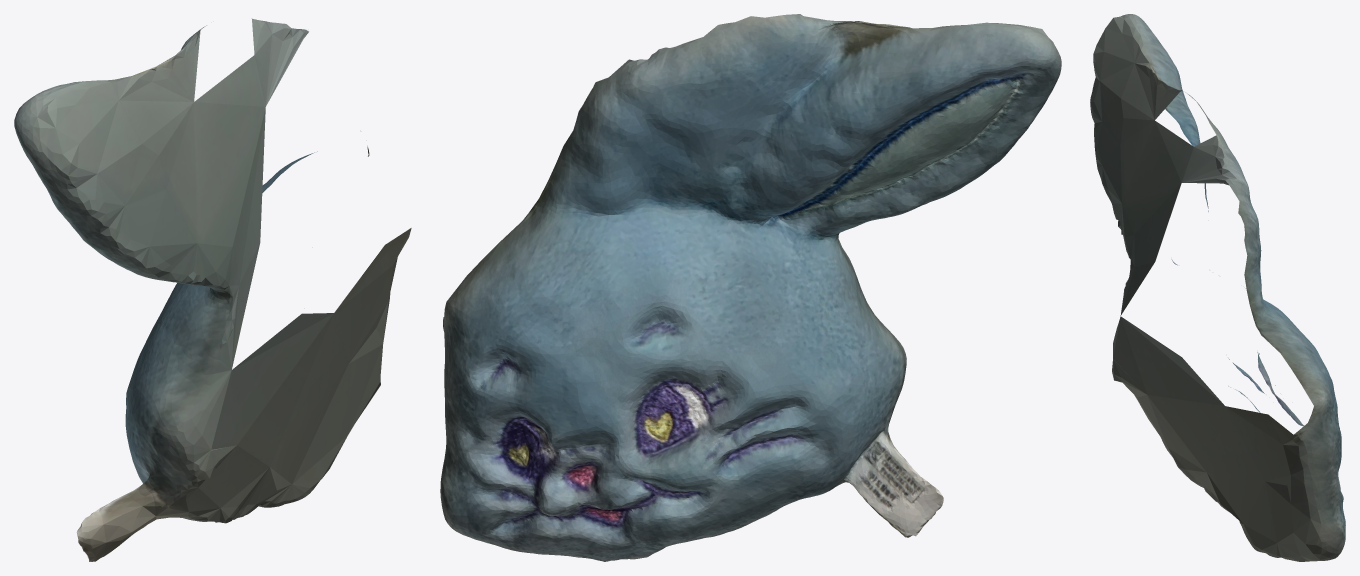
File: bunnies.glb
3 views of the same model, side by side, from view 1: azimuth 30°, elevation 25°; view 2: azimuth 150°, elevation 25°; view 3: azimuth 270°, elevation 25° (orthographic). The views are drawn at different scales.
Visible parts, largest first — view 1: bunny; view 2: bunny; view 3: bunny.
Part boxes in pixels (x1=…): bunny: x1=14, y1=18, x2=411, y2=561; bunny: x1=440, y1=14, x2=1061, y2=561; bunny: x1=1090, y1=14, x2=1345, y2=561.
Bounding box in the file's own units: 1.49 × 1.54 × 0.8718.
1 material, 1 textured.
